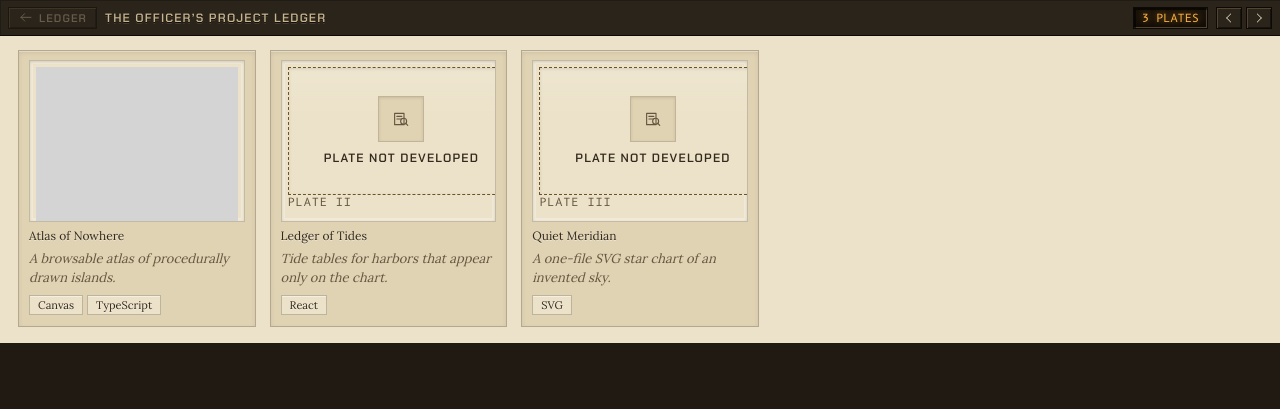
Scenario: AP-6 · card → plate page → back, with wrapping pages › a plate without story/screenshot states their absence in-world
The width and height of the screenshot is (1280, 409).
Click the button with aria-label "Plate II — Ledger of Tides. Open plate.": x=388, y=188 [270, 50, 507, 327]
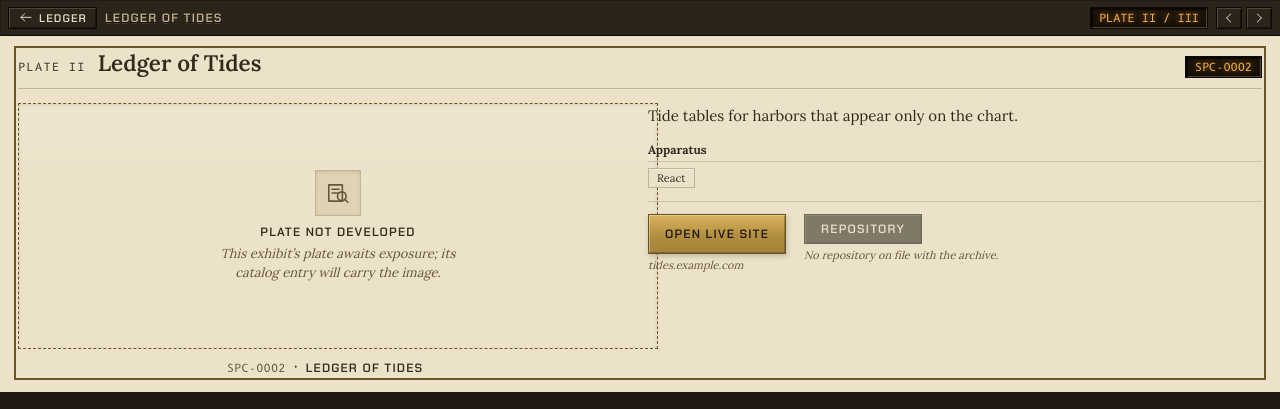
Check: the element that starts with "PLATE NOT DEVELOPED" is shown, box [260, 224, 416, 240]
